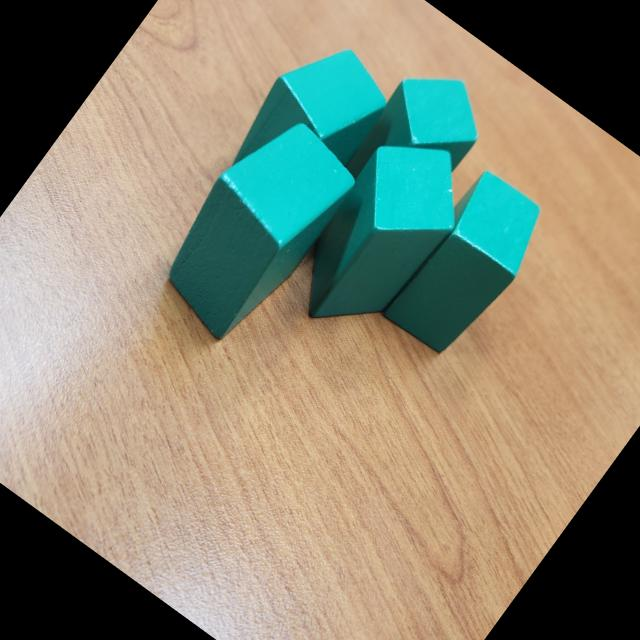green: (138, 100, 368, 354), (271, 116, 488, 357), (216, 23, 404, 224), (374, 165, 556, 367), (336, 49, 502, 226)
